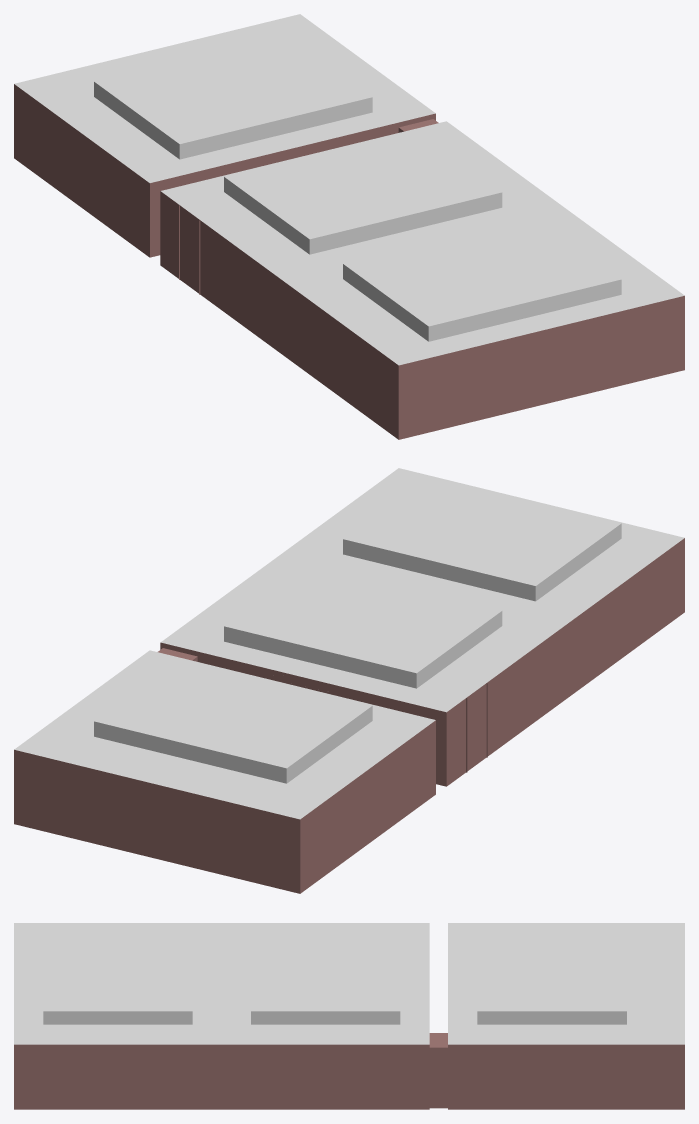
File: place.fbx
The picture shows the model from 3 angles, top to bottom: view 1: azimuth 30°, elevation 25°; view 2: azimuth 150°, elevation 25°; view 3: azimuth 270°, elevation 25°; orthographic projection. The views are drawn at different scales.
Parts seen in each view (by area): view 1: pCube70; view 2: pCube70; view 3: pCube70.
Part boxes in pixels (bbox=[...]): pCube70: bbox=[14, 14, 684, 439]; pCube70: bbox=[14, 468, 684, 893]; pCube70: bbox=[14, 923, 684, 1109].
Size of what is drawn, in the model's own units: 179 by 53.63 by 416.
